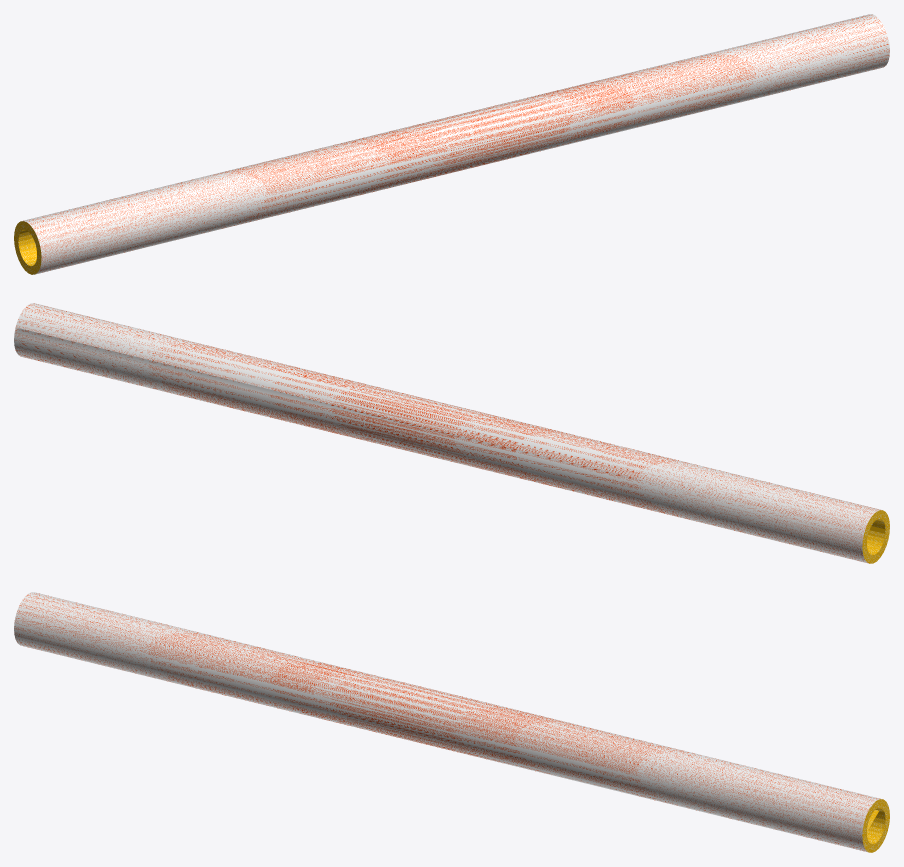
File: original-65.obj
3 renders of one model, top to bottom at view 1: azimuth 30°, elevation 25°; view 2: azimuth 150°, elevation 25°; view 3: azimuth 330°, elevation 25°, orthographic.
Visible parts, largest first — view 1: Group22/mesh67/mesh67-geometry#mesh67-geometry; view 2: Group22/mesh67/mesh67-geometry#mesh67-geometry; view 3: Group22/mesh67/mesh67-geometry#mesh67-geometry.
Part boxes in pixels (left/top/right/bottom): Group22/mesh67/mesh67-geometry#mesh67-geometry: left=14, top=14, right=889, bottom=274; Group22/mesh67/mesh67-geometry#mesh67-geometry: left=14, top=303, right=889, bottom=563; Group22/mesh67/mesh67-geometry#mesh67-geometry: left=14, top=592, right=889, bottom=852.
Bounding box in the file's own units: 0.4725 × 0.0266 × 0.0266.
